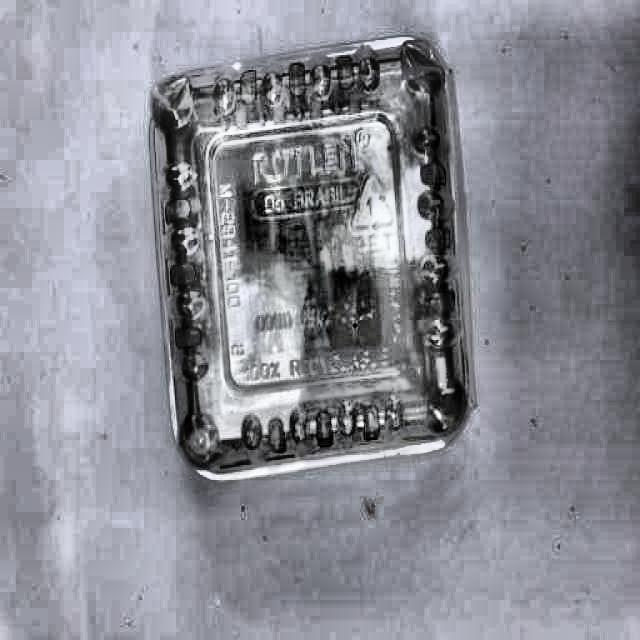plastic: (147, 36, 479, 483)
